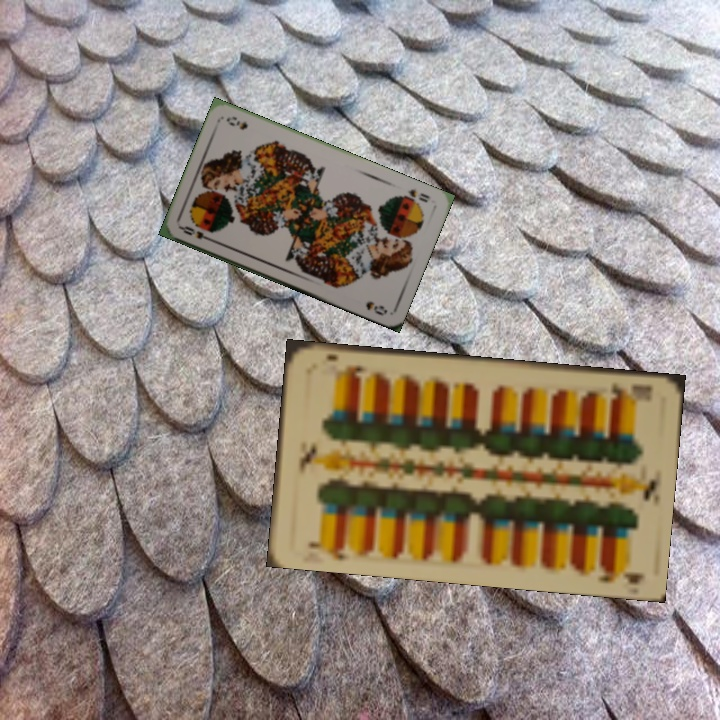E10: (607, 378, 655, 404), (304, 538, 351, 564)
SO: (177, 222, 216, 244), (399, 185, 433, 205)
